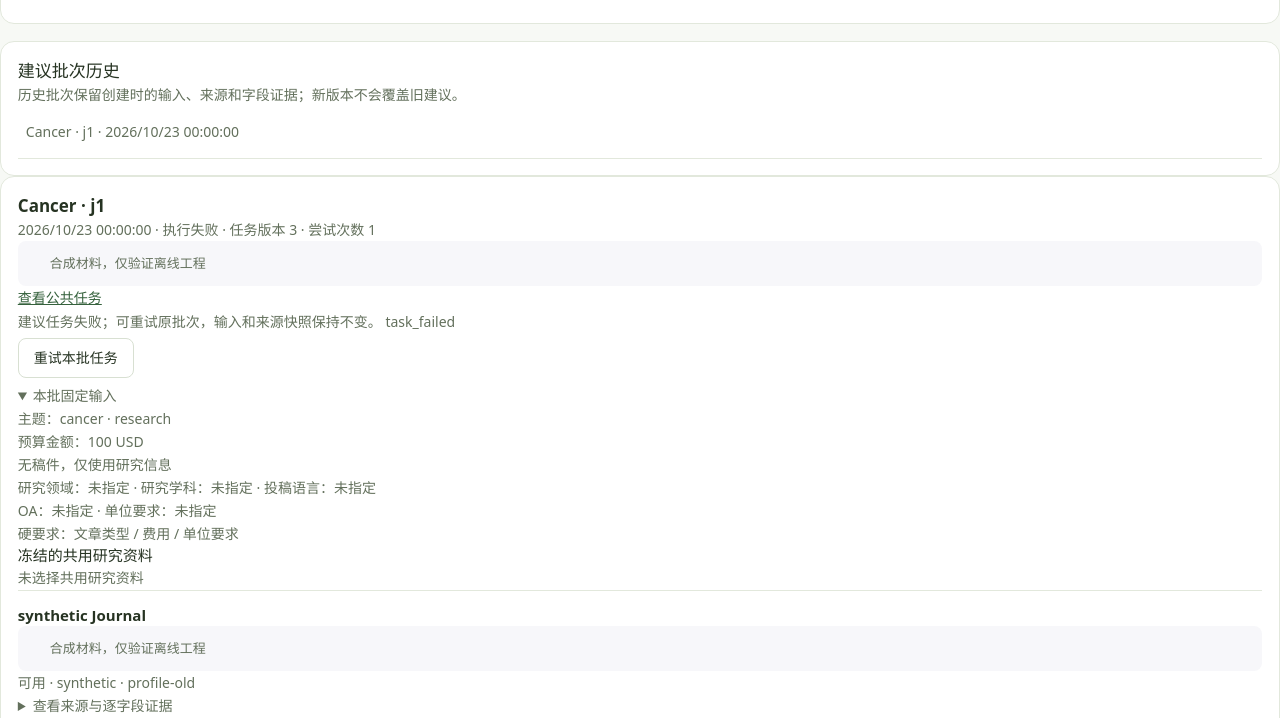
Test case: retries a failed task using the same frozen batch and clears content when session changes
The image size is (1280, 718).
(page scrolled)
Click the button "重试本批任务". click: (76, 358)
box: [18,338,134,378]
(page scrolled)
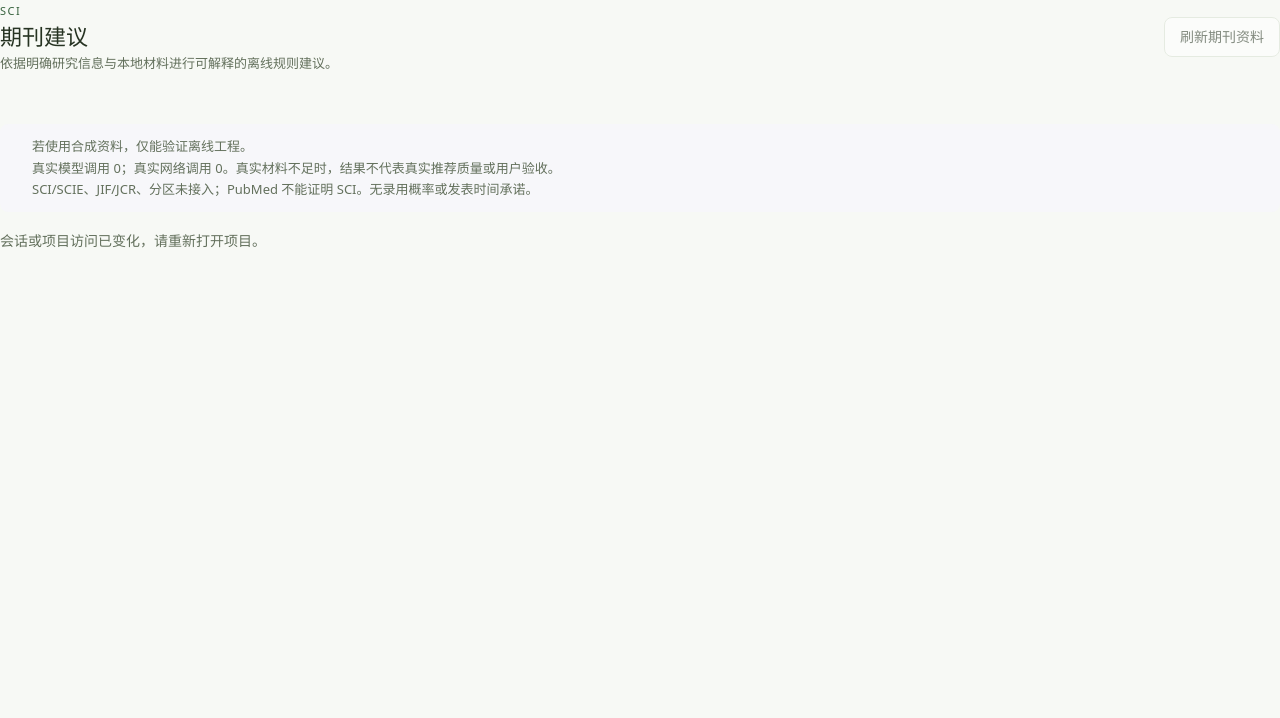
Expected: the heading "synthetic Journal" is gone
Expected: the text "会话或项目访问已变化，请重新打开项目。" is shown, [0,231,266,250]
